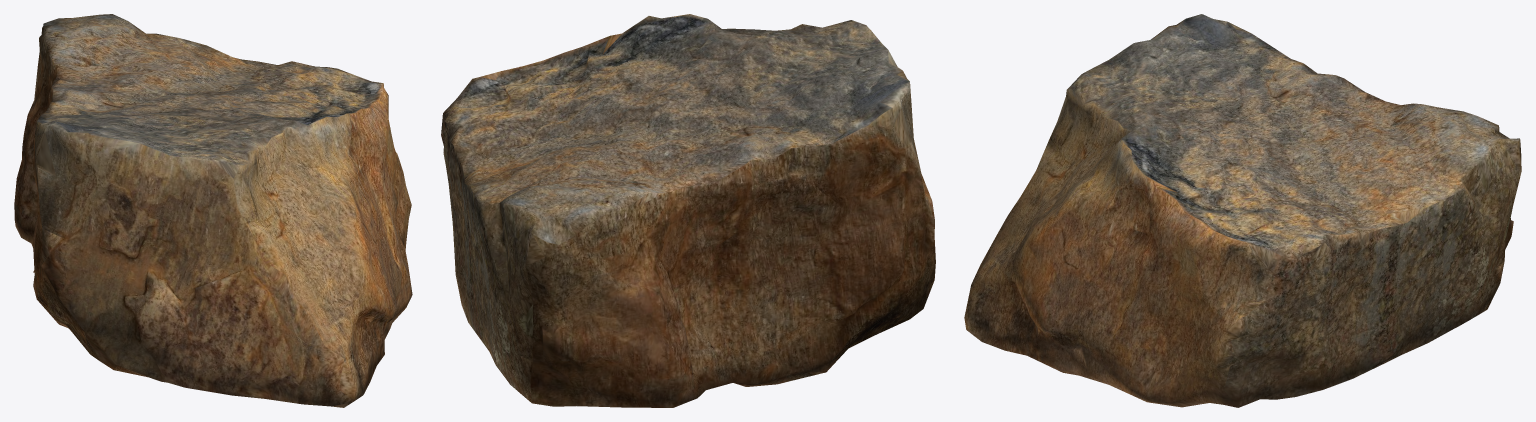
Rendered from boulder_namaqua_03.glb.
3 renders of one model, left to right at view 1: azimuth 30°, elevation 25°; view 2: azimuth 150°, elevation 25°; view 3: azimuth 270°, elevation 25°, orthographic. The views are drawn at different scales.
Parts seen in each view (by area): view 1: boulder_namaqua_03; view 2: boulder_namaqua_03; view 3: boulder_namaqua_03.
Boxes of the visible parts, bbox=[...] form: boulder_namaqua_03: bbox=[14, 14, 412, 407]; boulder_namaqua_03: bbox=[441, 14, 935, 407]; boulder_namaqua_03: bbox=[964, 14, 1521, 407].
Bounding box in the file's own units: 2.41 × 1.47 × 3.06.
1 material, 1 textured.
